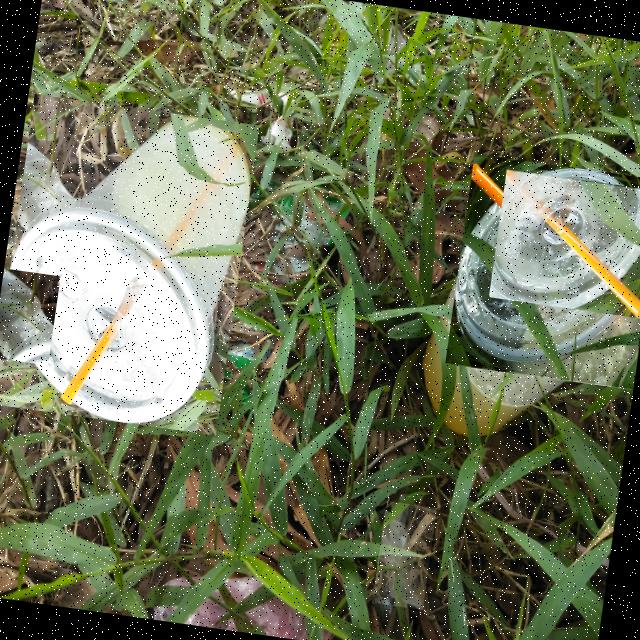Disposable plastic cup: (9, 115, 251, 423), (422, 165, 640, 437)
Plastic film: (0, 269, 54, 360), (382, 505, 424, 609)
Plastic lid: (16, 111, 234, 322), (455, 169, 640, 373)
Plastic straw: (100, 115, 202, 409), (506, 171, 640, 319)
